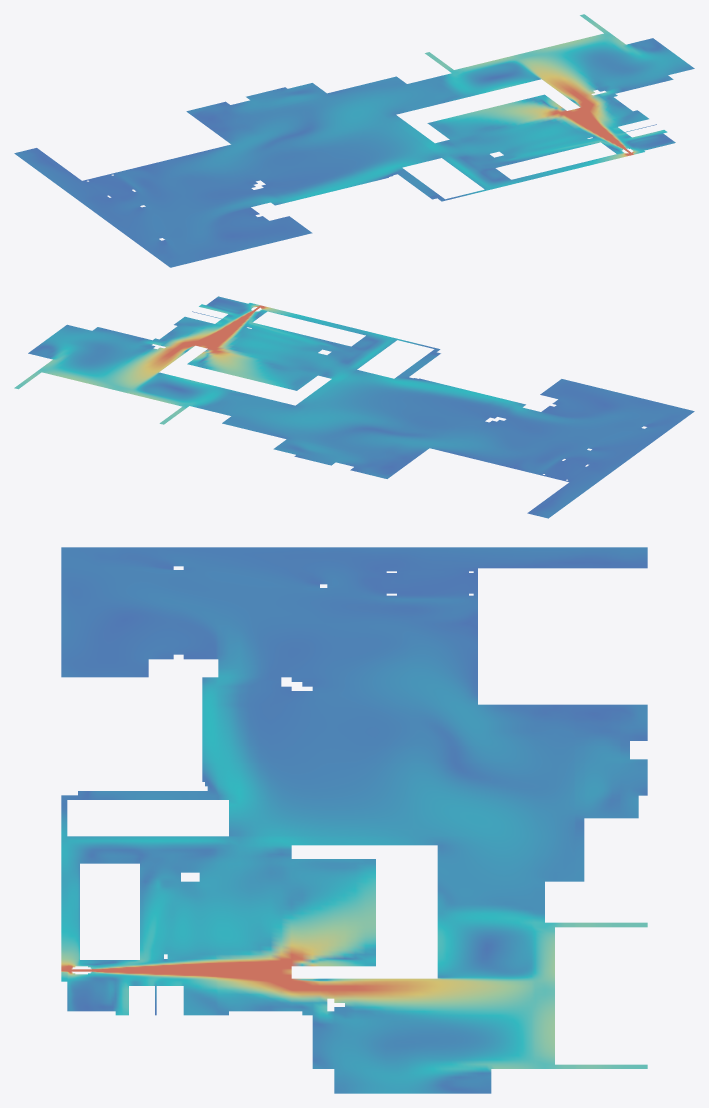
File: A_velocity_z0.3.glb
3 renders of one model, top to bottom at view 1: azimuth 30°, elevation 25°; view 2: azimuth 150°, elevation 25°; view 3: azimuth 270°, elevation 25°, orthographic. The views are drawn at different scales.
Size of the model in its own units: 7.18 by 0 by 3.26.
